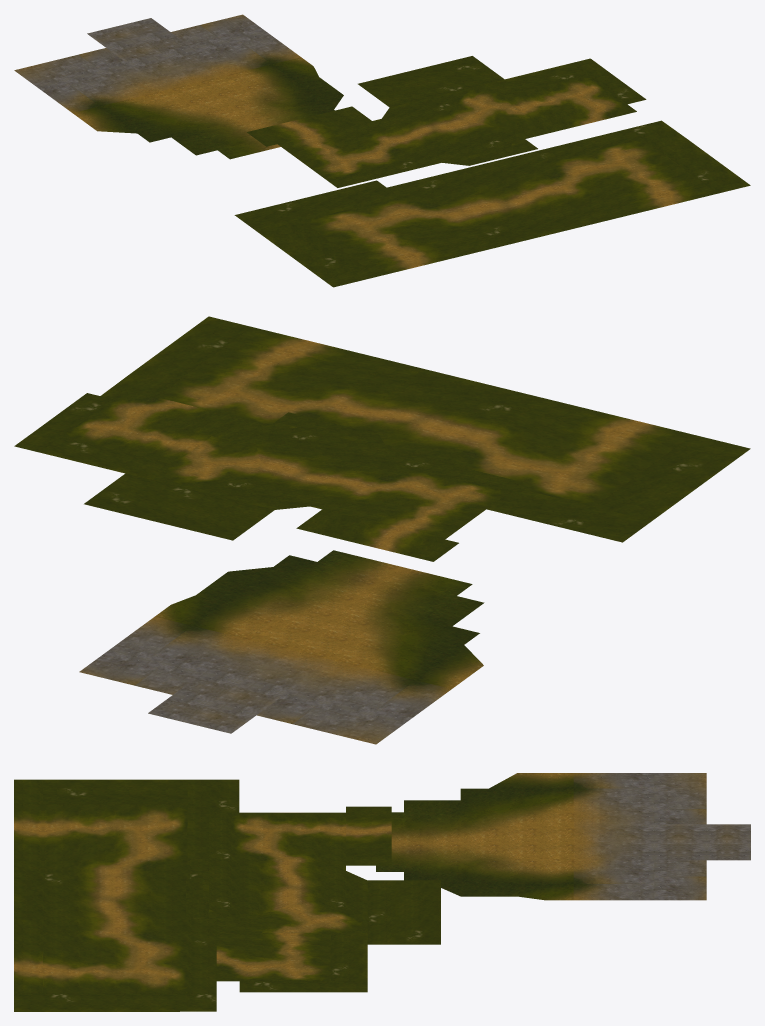
File: lumina_dixing_2F.FBX
3 views of the same model, one above another, from view 1: azimuth 30°, elevation 25°; view 2: azimuth 150°, elevation 25°; view 3: azimuth 270°, elevation 25° (orthographic). The views are drawn at different scales.
Visible parts, largest first — view 1: lumina_dixing_2F; view 2: lumina_dixing_2F; view 3: lumina_dixing_2F.
Boxes of the visible parts, <box> form: lumina_dixing_2F: <box>14,14,750,287</box>; lumina_dixing_2F: <box>14,316,750,744</box>; lumina_dixing_2F: <box>14,773,750,1011</box>.
Size of the model in its own units: 54.21 by 1.97 by 70.14.
